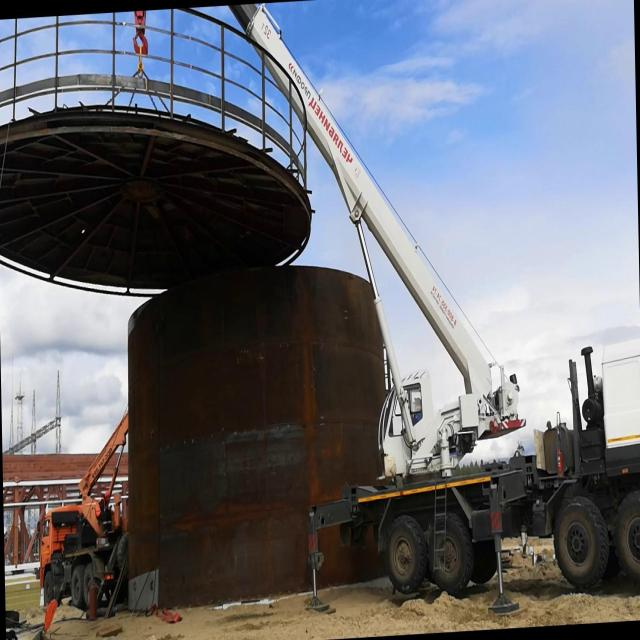crane: (224, 0, 640, 635)
